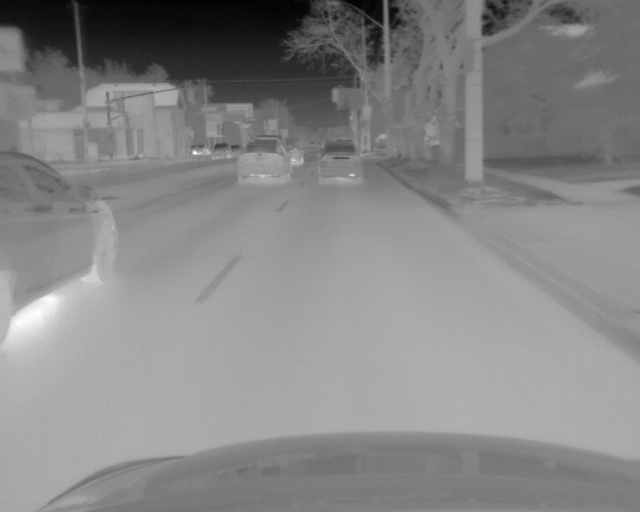car: (1, 150, 119, 345), (238, 138, 292, 186), (318, 142, 365, 185), (285, 143, 305, 167), (212, 143, 230, 160), (189, 144, 210, 157), (231, 143, 242, 157)
